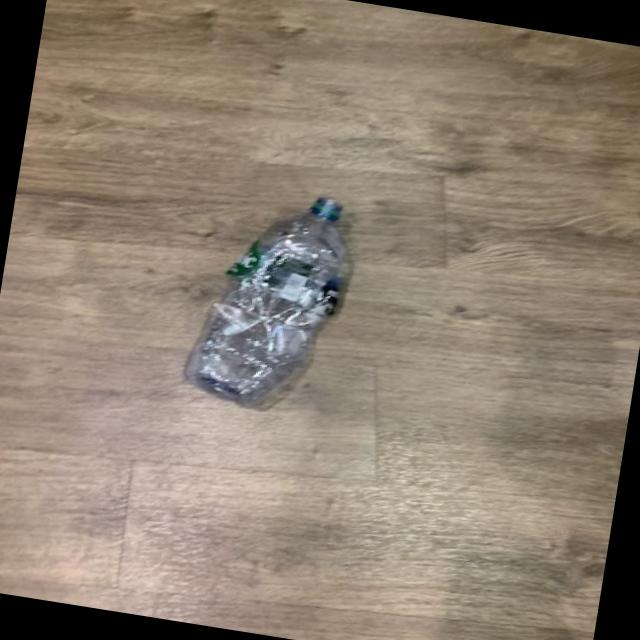plastic_bottle: (182, 180, 359, 417)
